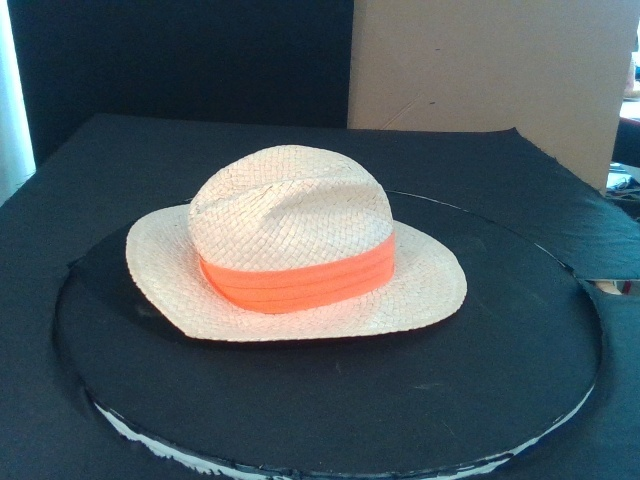hat: (125, 145, 467, 341)
